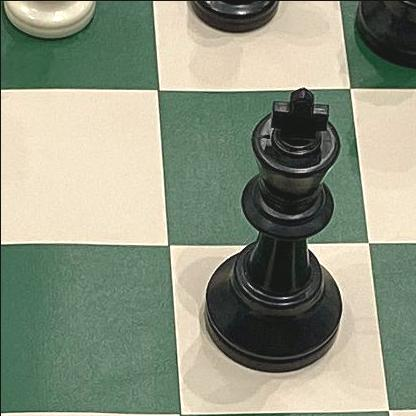black-king: (199, 71, 348, 382)
black-pawn: (181, 0, 290, 37)
white-pawn: (0, 0, 101, 43)
